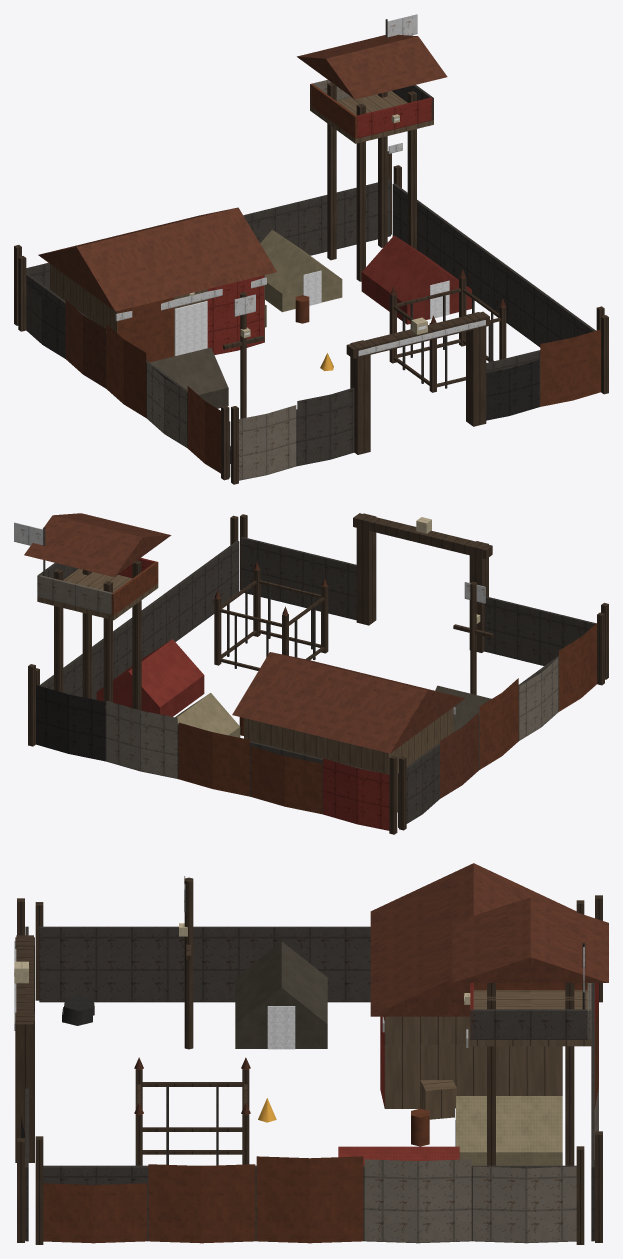
3 renders of one model, top to bottom at view 1: azimuth 30°, elevation 25°; view 2: azimuth 150°, elevation 25°; view 3: azimuth 270°, elevation 25°, orthographic. The views are drawn at different scales.
Parts seen in each view (by area): view 1: raider_building_camp; view 2: raider_building_camp; view 3: raider_building_camp.
Boxes of the visible parts, x1,y1,x2,y2 form: raider_building_camp: [14, 14, 608, 484]; raider_building_camp: [14, 513, 608, 834]; raider_building_camp: [14, 863, 608, 1244].
Size of the model in its own units: 17.26 by 9.1 by 16.72.
17 materials, 17 textured.
